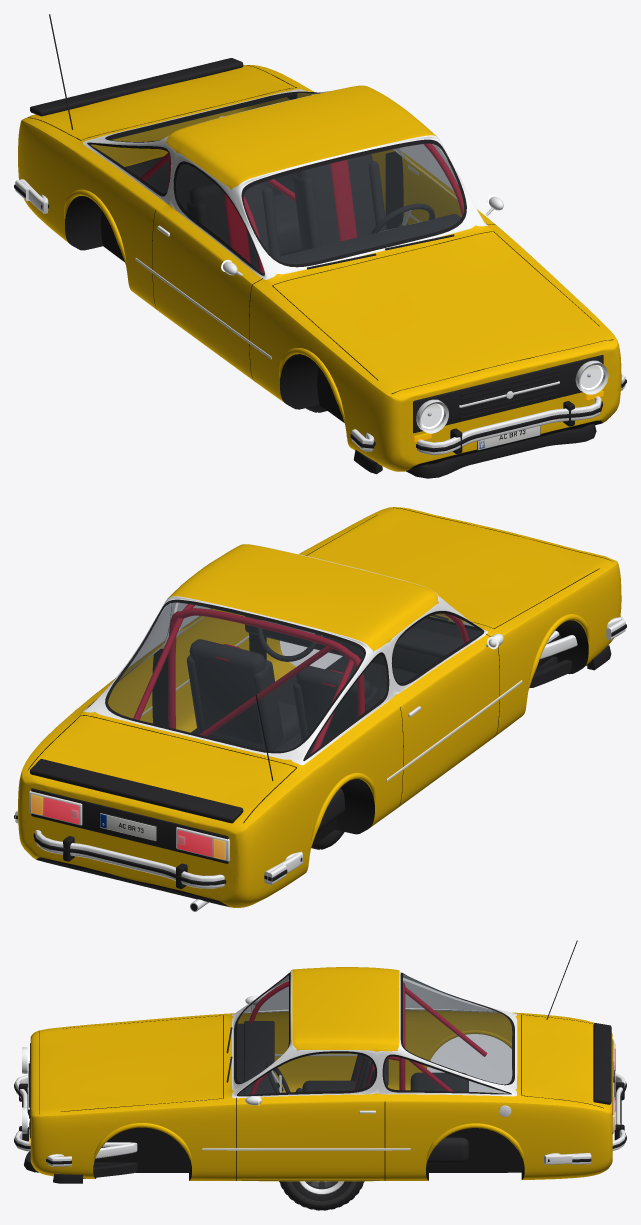
Rendered from kadett-high.glb.
3 views of the same model, one above another, from view 1: azimuth 30°, elevation 25°; view 2: azimuth 150°, elevation 25°; view 3: azimuth 270°, elevation 25° (orthographic). The views are drawn at different scales.
Parts seen in each view (by area): view 1: body; view 2: body; view 3: body, wheel.
Part boxes in pixels (left/top/right/bottom): body: left=14, top=14, right=626, bottom=478; body: left=14, top=507, right=626, bottom=911; body: left=14, top=940, right=626, bottom=1183; wheel: left=279, top=1181, right=364, bottom=1210.
Size of the model in its own units: 1.77 by 1.8 by 4.41.
